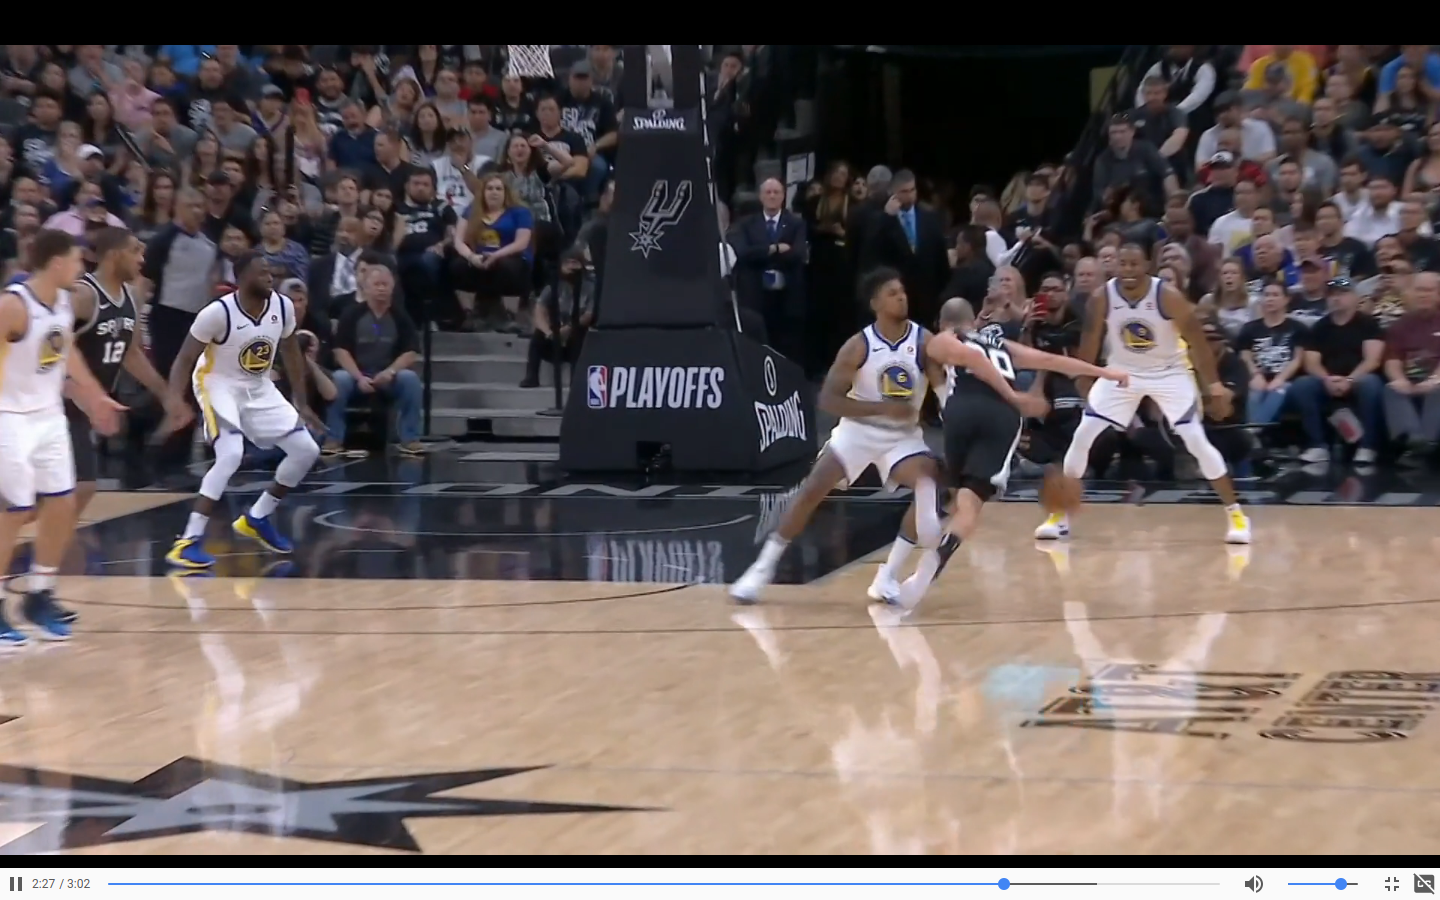basketball: (1033, 465, 1092, 525)
basketball player: (730, 274, 941, 608), (1042, 234, 1259, 548), (170, 252, 324, 588), (916, 288, 1073, 612), (1, 224, 90, 643), (75, 223, 152, 500)
